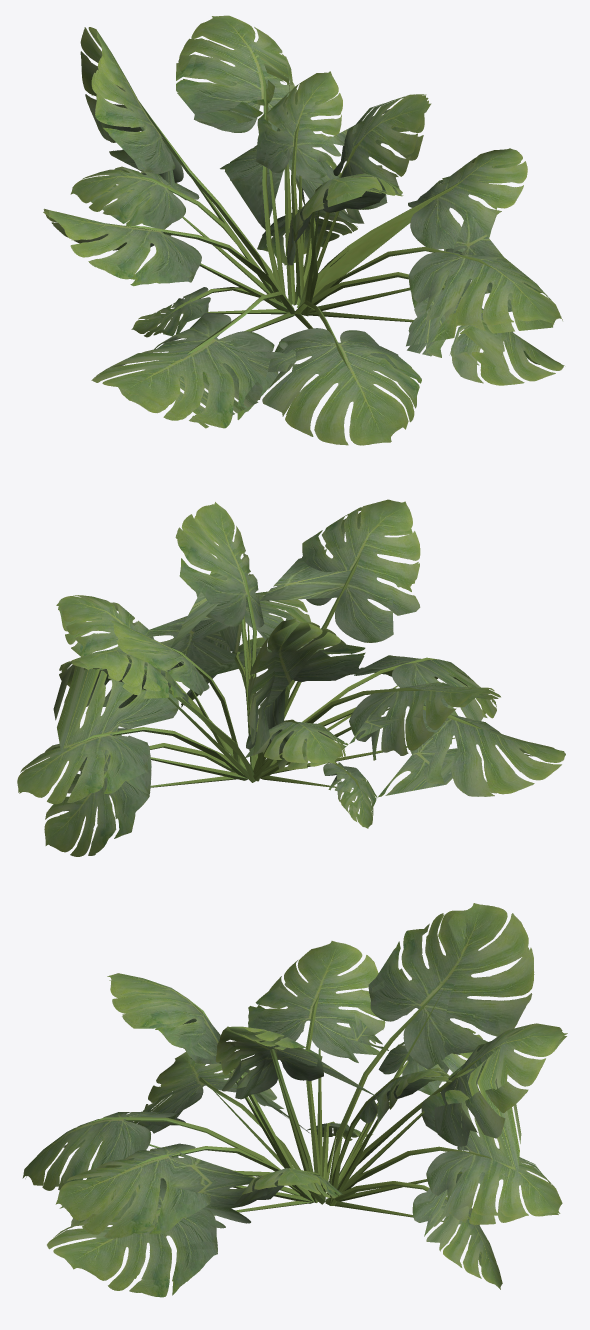
The model's file is monstera.glb.
3 views of the same model, one above another, from view 1: azimuth 30°, elevation 25°; view 2: azimuth 150°, elevation 25°; view 3: azimuth 270°, elevation 25° (orthographic). The views are drawn at different scales.
Parts seen in each view (by area): view 1: cerca, lejos; view 2: cerca, lejos; view 3: cerca, lejos.
Boxes of the visible parts, bbox=[...] form: cerca: bbox=[43, 15, 564, 444]; lejos: bbox=[43, 24, 560, 445]; cerca: bbox=[17, 499, 564, 856]; lejos: bbox=[19, 503, 565, 855]; cerca: bbox=[22, 903, 567, 1297]; lejos: bbox=[25, 911, 566, 1282].
Bounding box in the file's own units: 1.85 × 1.1 × 1.86.
2 materials, 2 textured.
